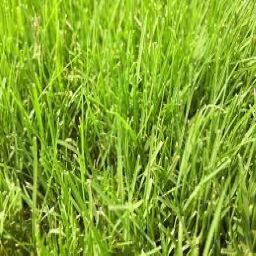grass: (0, 4, 252, 249)
